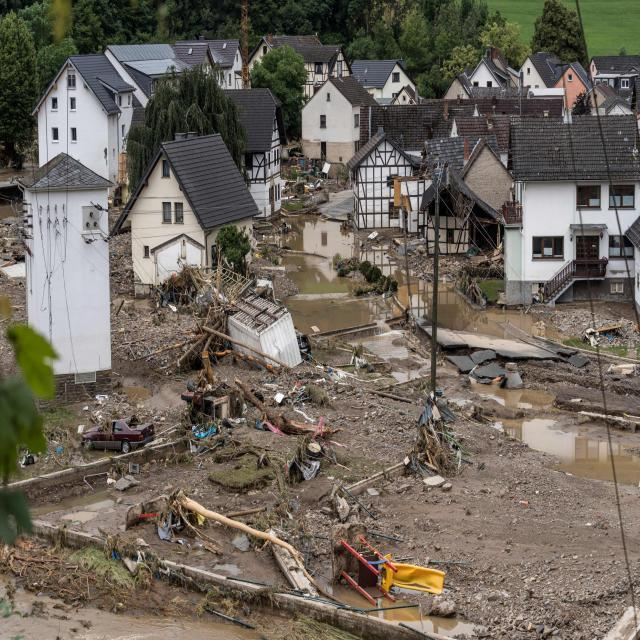flood: (283, 221, 391, 332), (502, 421, 612, 480), (481, 387, 556, 416), (360, 331, 411, 362), (615, 442, 640, 484), (396, 371, 410, 378)
house: (510, 120, 640, 290), (116, 132, 255, 290), (22, 159, 108, 373), (32, 53, 136, 138), (350, 126, 426, 230), (298, 79, 365, 158), (248, 88, 284, 216), (444, 136, 512, 202), (524, 51, 580, 119), (344, 56, 421, 105), (451, 52, 522, 104), (187, 34, 246, 86), (589, 53, 640, 90), (245, 34, 278, 68)
